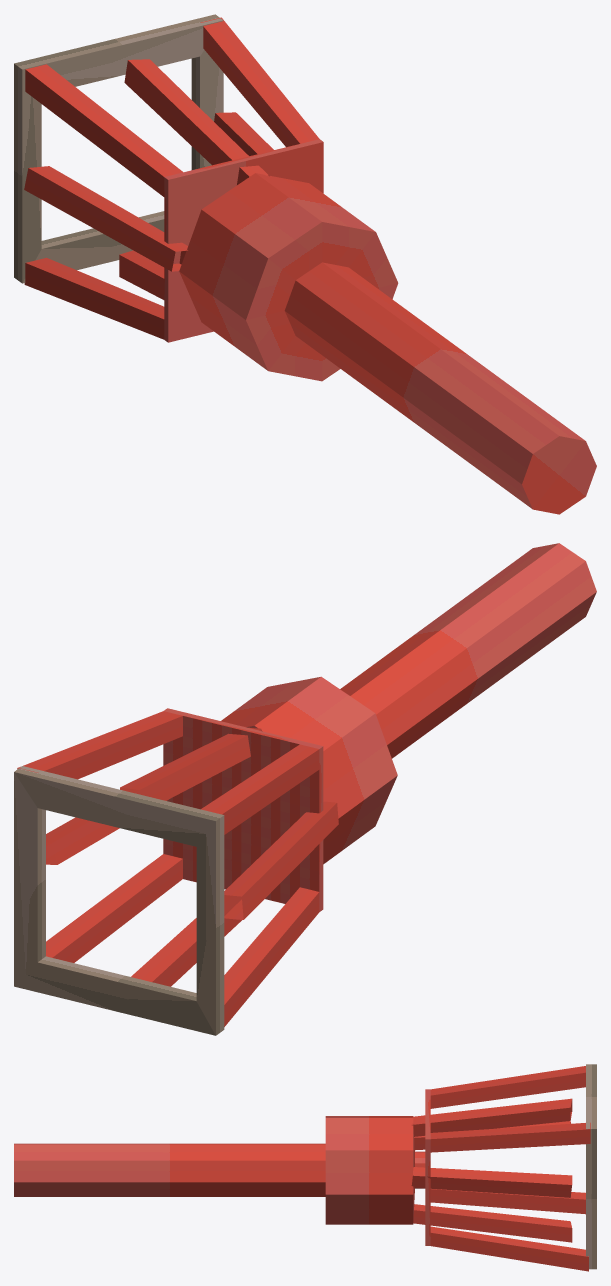
File: 248_radiotower_005.gltf
The picture shows the model from 3 angles, top to bottom: view 1: azimuth 30°, elevation 25°; view 2: azimuth 150°, elevation 25°; view 3: azimuth 270°, elevation 25°; orthographic projection. The views are drawn at different scales.
Visible parts, largest first — view 1: radiotower_005; view 2: radiotower_005; view 3: radiotower_005.
Part boxes in pixels (<box>): radiotower_005: <box>14,14,596,514</box>; radiotower_005: <box>14,543,596,1035</box>; radiotower_005: <box>14,1064,596,1271</box>.
Bounding box in the file's own units: 3.79 × 3.75 × 13.76.
1 material, 1 textured.
